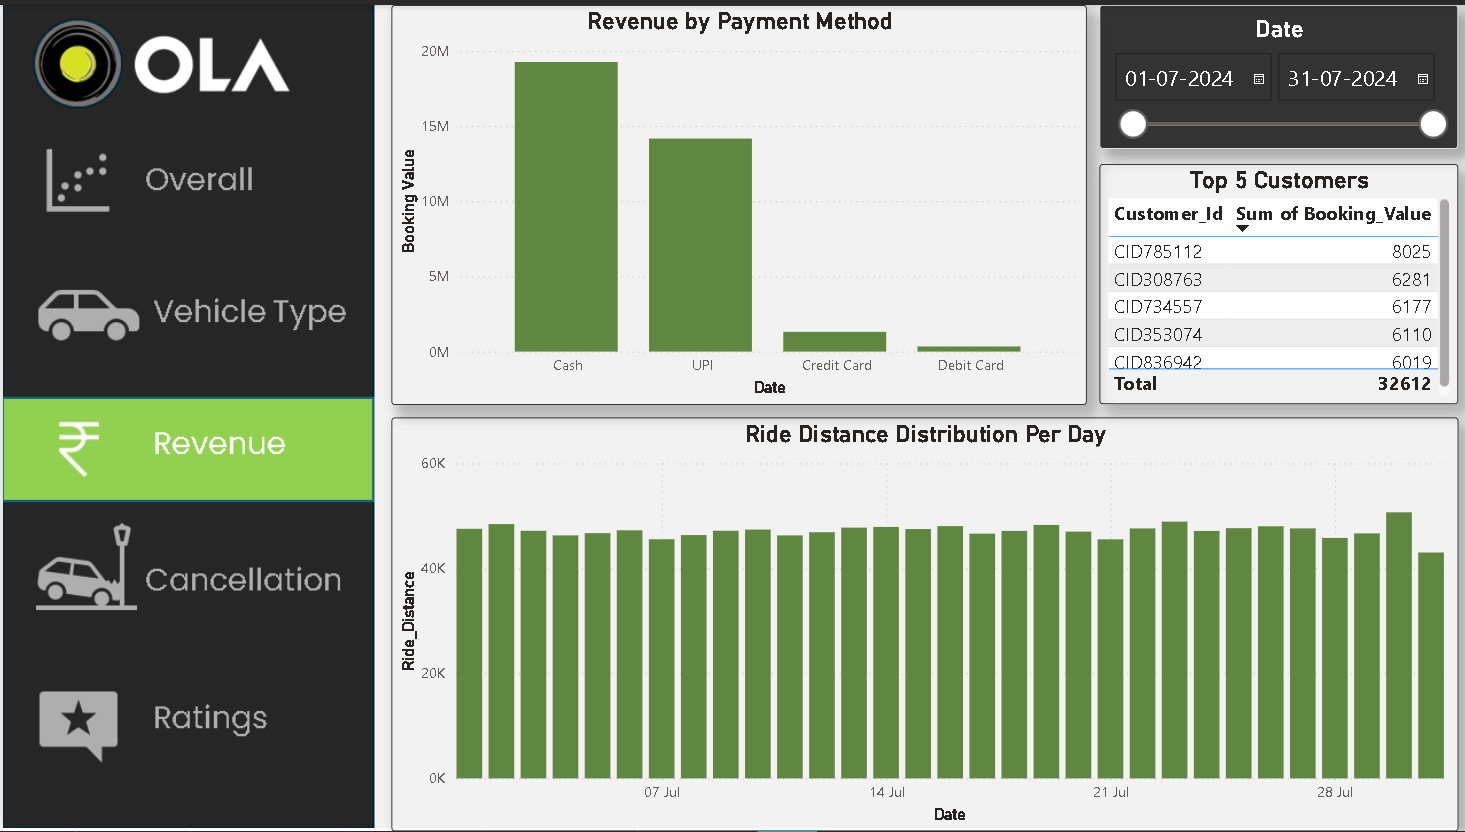

The dashboard page shown, as its layout file describes it:
{"tool":"powerbi","page":{"name":"Revenue","canvas":[1280,720],"ordinal":2},"visuals":[{"type":"actionButton","box":[0,224.5,324.3,86.6],"z":0},{"type":"actionButton","box":[0,110.1,324.3,86.6],"z":1000},{"type":"actionButton","box":[1.5,444.6,324.3,93.9],"z":2000},{"type":"actionButton","box":[0,582.6,324.3,86.6],"z":3000},{"type":"columnChart","title":"Ride Distance Distribution Per Day","fields":{"Category":["Bookings-100000-Rows.booking_date"],"Y":["Sum(Bookings-100000-Rows.ride_distance)"]},"box":[339.1,359.4,929.7,360.9],"z":4000},{"type":"slicer","title":"Date","fields":{"Values":["Bookings-100000-Rows.booking_date"]},"box":[956.2,0,312.5,125],"z":5000},{"type":"columnChart","title":"Revenue by Payment Method","fields":{"Y":["Sum(Bookings-100000-Rows.booking_value)"],"Category":["Bookings-100000-Rows.payment_method"]},"box":[339.1,0,606.2,348.4],"z":6000},{"type":"tableEx","title":"Top 5 Customers","fields":{"Values":["Bookings-100000-Rows.customer_id","Sum(Bookings-100000-Rows.booking_value)"]},"box":[956.2,139.1,312.5,209.4],"z":7000}]}

Visuals, with their boxes on the page's 1280x720 design canvas (x1, y1, x2, y2). These are canvas units, not pixel positions in the 1465x832 screenshot, which may show the page scaled, cropped or inside an application window:
actionButton: crop(0, 224, 324, 311)
actionButton: crop(0, 110, 324, 197)
actionButton: crop(2, 445, 326, 538)
actionButton: crop(0, 583, 324, 669)
"Ride Distance Distribution Per Day" columnChart: crop(339, 359, 1269, 720)
"Date" slicer: crop(956, 0, 1269, 125)
"Revenue by Payment Method" columnChart: crop(339, 0, 945, 348)
"Top 5 Customers" tableEx: crop(956, 139, 1269, 348)
